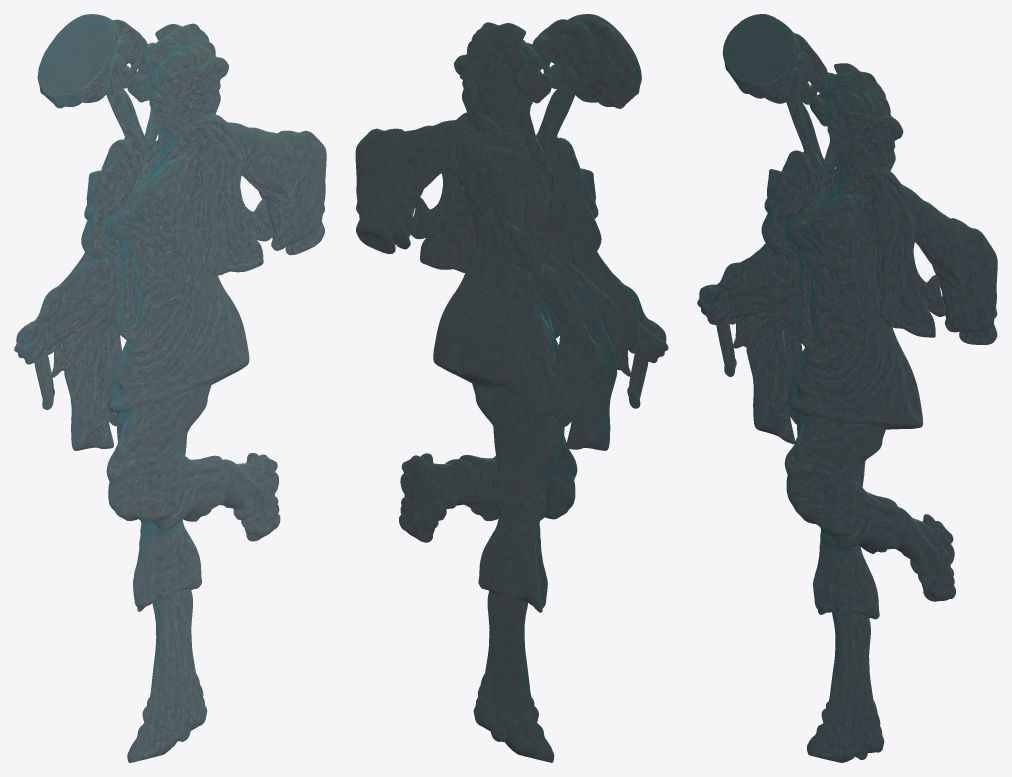
Rendered from TIL-SOM-T31F119001859102.glb.
The picture shows the model from 3 angles, left to right: view 1: azimuth 30°, elevation 25°; view 2: azimuth 150°, elevation 25°; view 3: azimuth 330°, elevation 25°; orthographic projection. The views are drawn at different scales.
Visible parts, largest first — view 1: mesh_node; view 2: mesh_node; view 3: mesh_node.
Boxes of the visible parts, bbox=[...] form: mesh_node: bbox=[14, 14, 326, 762]; mesh_node: bbox=[355, 14, 668, 762]; mesh_node: bbox=[697, 14, 997, 762].
Size of the model in its own units: 0.5175 by 1.2 by 0.009.
Materials: 1 (1 with a texture image).
